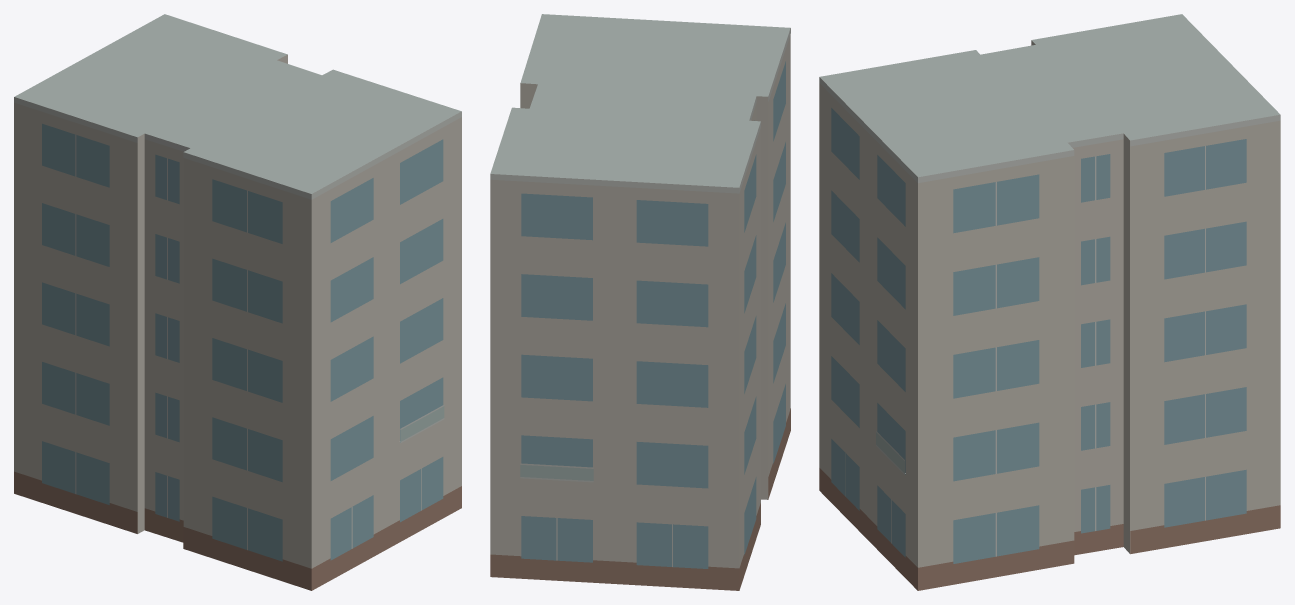
File: survey-upis-32690429.glb
The picture shows the model from 3 angles, left to right: view 1: azimuth 30°, elevation 25°; view 2: azimuth 150°, elevation 25°; view 3: azimuth 270°, elevation 25°; orthographic projection. The views are drawn at different scales.
Parts seen in each view (by area): view 1: survey-upis-32690429.tmp; view 2: survey-upis-32690429.tmp; view 3: survey-upis-32690429.tmp.
Part boxes in pixels (x1,y1,x2,y2): survey-upis-32690429.tmp: [14, 14, 461, 590]; survey-upis-32690429.tmp: [490, 14, 790, 590]; survey-upis-32690429.tmp: [819, 14, 1280, 590].
Size of the model in its own units: 14.4 by 17 by 17.2.
